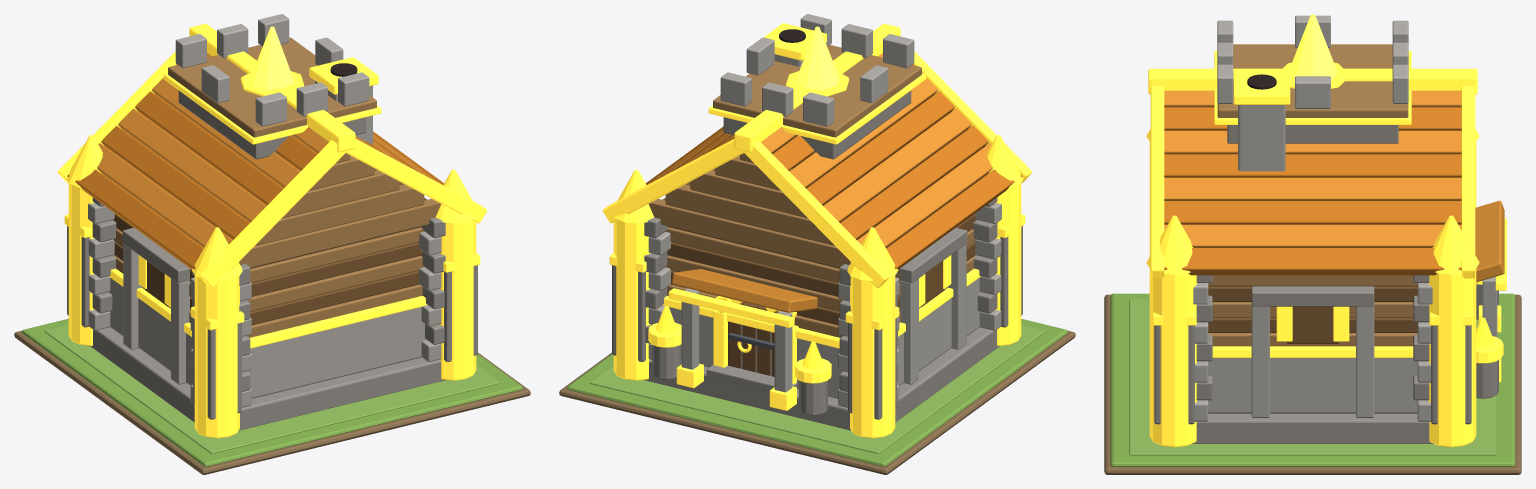
The model's file is town_hall_lv6.glb.
3 views of the same model, side by side, from view 1: azimuth 30°, elevation 25°; view 2: azimuth 150°, elevation 25°; view 3: azimuth 270°, elevation 25° (orthographic). The views are drawn at different scales.
Parts seen in each view (by area): view 1: StoneWainscot, StoneFoundation, Base_Inner, Base_Grass, TH_HighPillar_-1_-1, LookoutDeck, Base_Dirt, TH_HighPillar_1_-1, Gable_-1_0, RoofSlope_-1_4, RoofSlope_-1_3, RoofSlope_-1_5 (+40 smaller); view 2: Base_Inner, Base_Grass, TH_HighPillar_-1_1, StoneFoundation, LookoutDeck, Base_Dirt, StoneWainscot, TH_HighPillar_1_1, Gable_1_0, RoofSlope_-1_4, RoofSlope_-1_3, RoofSlope_-1_5 (+53 smaller); view 3: Base_Grass, StoneWainscot, Base_Inner, RoofSlope_1_4, RoofSlope_1_5, RoofSlope_1_7, StoneFoundation, TH_HighPillar_1_1, TH_HighPillar_1_-1, RoofSlope_1_3, LookoutDeck, RoofSlope_1_6 (+36 smaller).
Boxes of the visible parts, x1,y1,x2,y2 form: StoneWainscot: [109, 277, 426, 398]; StoneFoundation: [90, 327, 445, 430]; Base_Inner: [44, 325, 500, 453]; Base_Grass: [22, 319, 522, 466]; TH_HighPillar_-1_-1: [194, 275, 239, 438]; LookoutDeck: [168, 37, 376, 137]; Base_Dirt: [14, 330, 530, 474]; TH_HighPillar_1_-1: [439, 220, 476, 380]; Gable_-1_0: [239, 198, 441, 267]; RoofSlope_-1_4: [118, 108, 266, 222]; RoofSlope_-1_3: [135, 91, 283, 205]; RoofSlope_-1_5: [101, 126, 249, 239]; Base_Inner: [589, 325, 1045, 453]; Base_Grass: [567, 319, 1067, 466]; TH_HighPillar_-1_1: [850, 275, 895, 438]; StoneFoundation: [644, 327, 999, 430]; LookoutDeck: [713, 45, 921, 137]; Base_Dirt: [559, 330, 1075, 474]; StoneWainscot: [669, 277, 980, 398]; TH_HighPillar_1_1: [613, 220, 650, 380]; Gable_1_0: [648, 198, 850, 267]; RoofSlope_-1_4: [823, 108, 971, 222]; RoofSlope_-1_3: [806, 91, 954, 205]; RoofSlope_-1_5: [840, 126, 988, 239]; Base_Grass: [1110, 293, 1515, 466]; StoneWainscot: [1208, 358, 1417, 413]; Base_Inner: [1129, 299, 1496, 455]; RoofSlope_1_4: [1164, 177, 1461, 200]; RoofSlope_1_5: [1164, 201, 1461, 224]; RoofSlope_1_7: [1164, 248, 1461, 275]; StoneFoundation: [1192, 413, 1433, 443]; TH_HighPillar_1_1: [1428, 268, 1476, 447]; TH_HighPillar_1_-1: [1149, 268, 1197, 447]; RoofSlope_1_3: [1164, 154, 1461, 177]; LookoutDeck: [1217, 44, 1408, 117]; RoofSlope_1_6: [1164, 224, 1461, 247].
Bounding box in the file's own units: 3.68 × 3.63 × 3.68.
